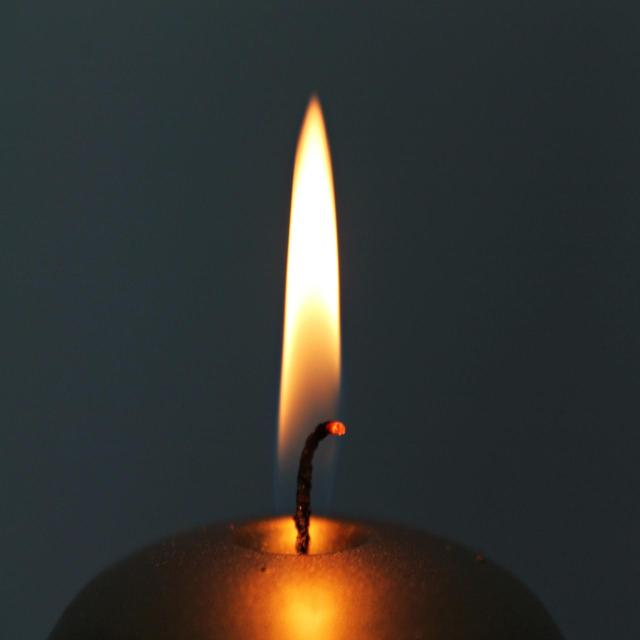Fire_Save: (275, 92, 345, 510)
